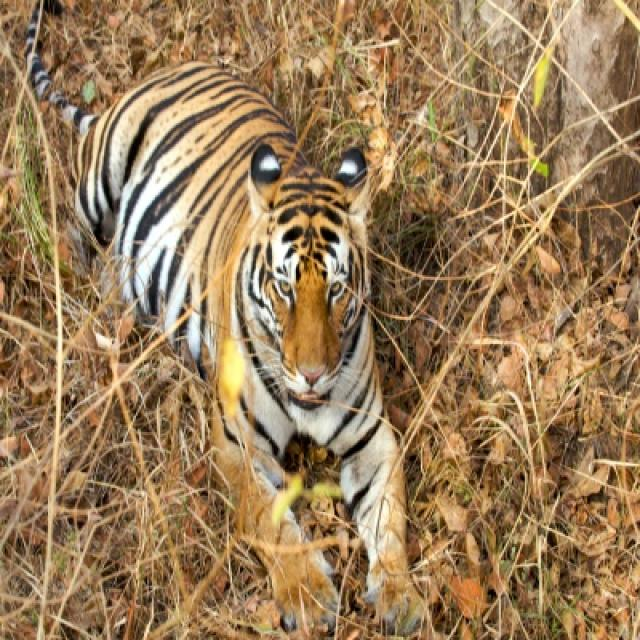Tiger: (26, 6, 418, 621)
